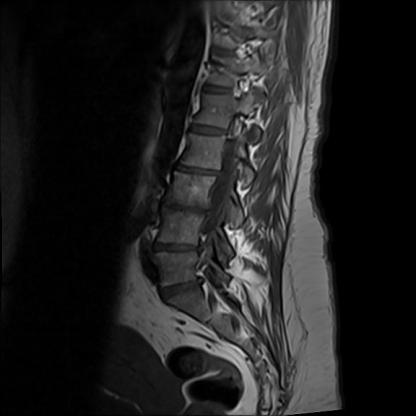Degenerative Disc Diseaserotation: (158, 278, 205, 303), (166, 198, 209, 218), (174, 164, 220, 181)
Disc Herniationrotation: (166, 197, 208, 219), (174, 162, 220, 181), (158, 240, 202, 257)
